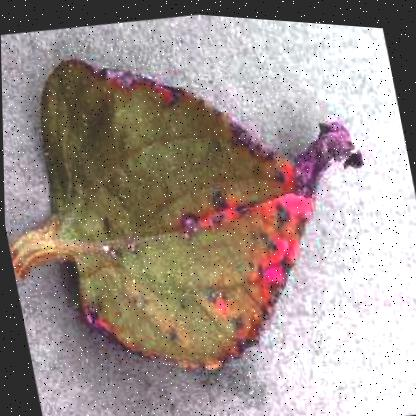BACTERIAL SPOT: (0, 0, 409, 414)
